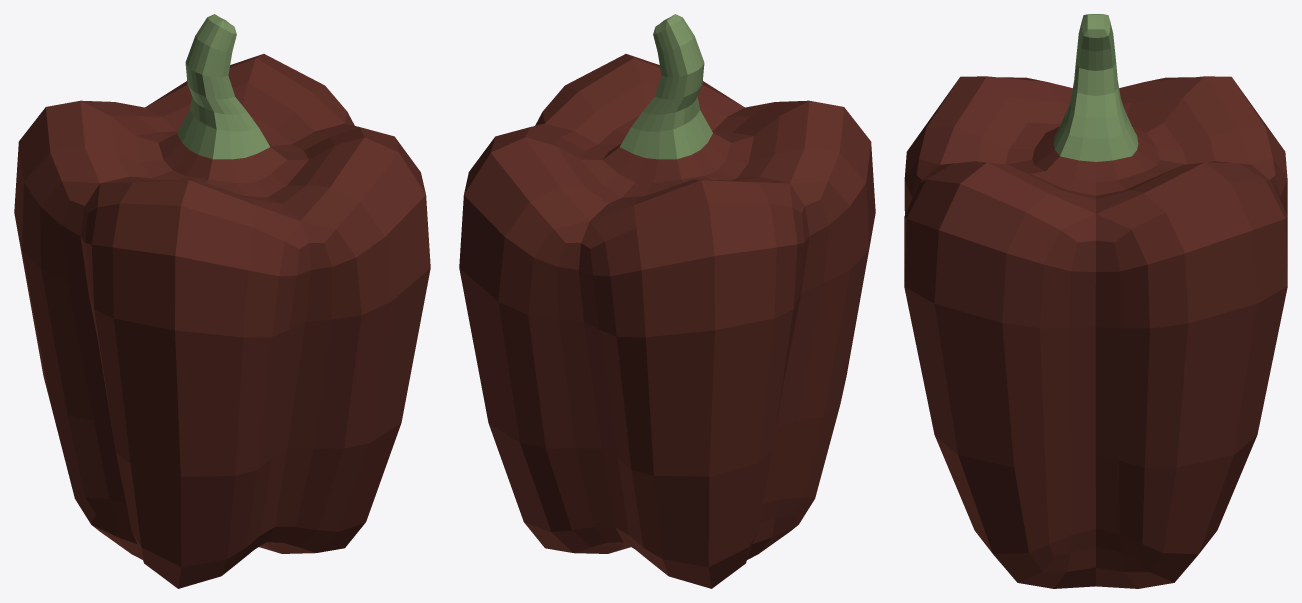
File: ingredient_pepper_red.glb
The picture shows the model from 3 angles, left to right: view 1: azimuth 30°, elevation 25°; view 2: azimuth 150°, elevation 25°; view 3: azimuth 270°, elevation 25°; orthographic projection.
Visible parts, largest first — view 1: Pepper_Red_Cylinder.031; view 2: Pepper_Red_Cylinder.031; view 3: Pepper_Red_Cylinder.031.
Boxes of the visible parts, x1,y1,x2,y2 form: Pepper_Red_Cylinder.031: (14, 14, 430, 588); Pepper_Red_Cylinder.031: (459, 14, 875, 588); Pepper_Red_Cylinder.031: (904, 14, 1287, 588).
Size of the model in its own units: 0.674 by 1.11 by 0.7118.
